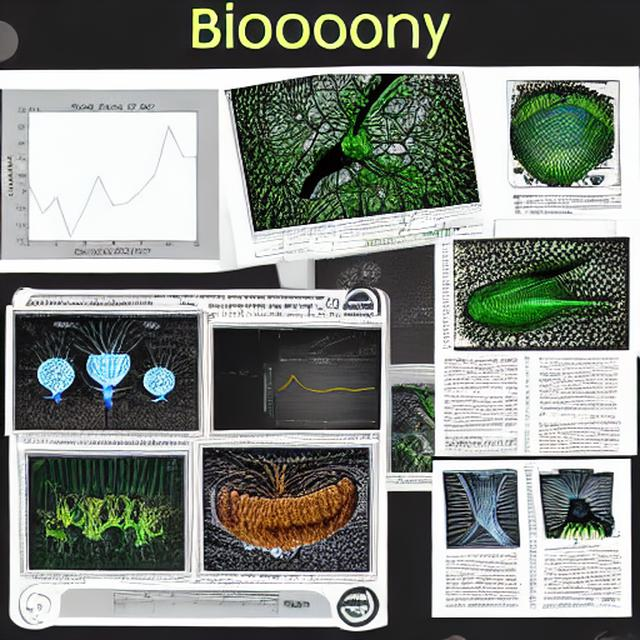Graph: (1, 94, 219, 258), (259, 357, 381, 430)
